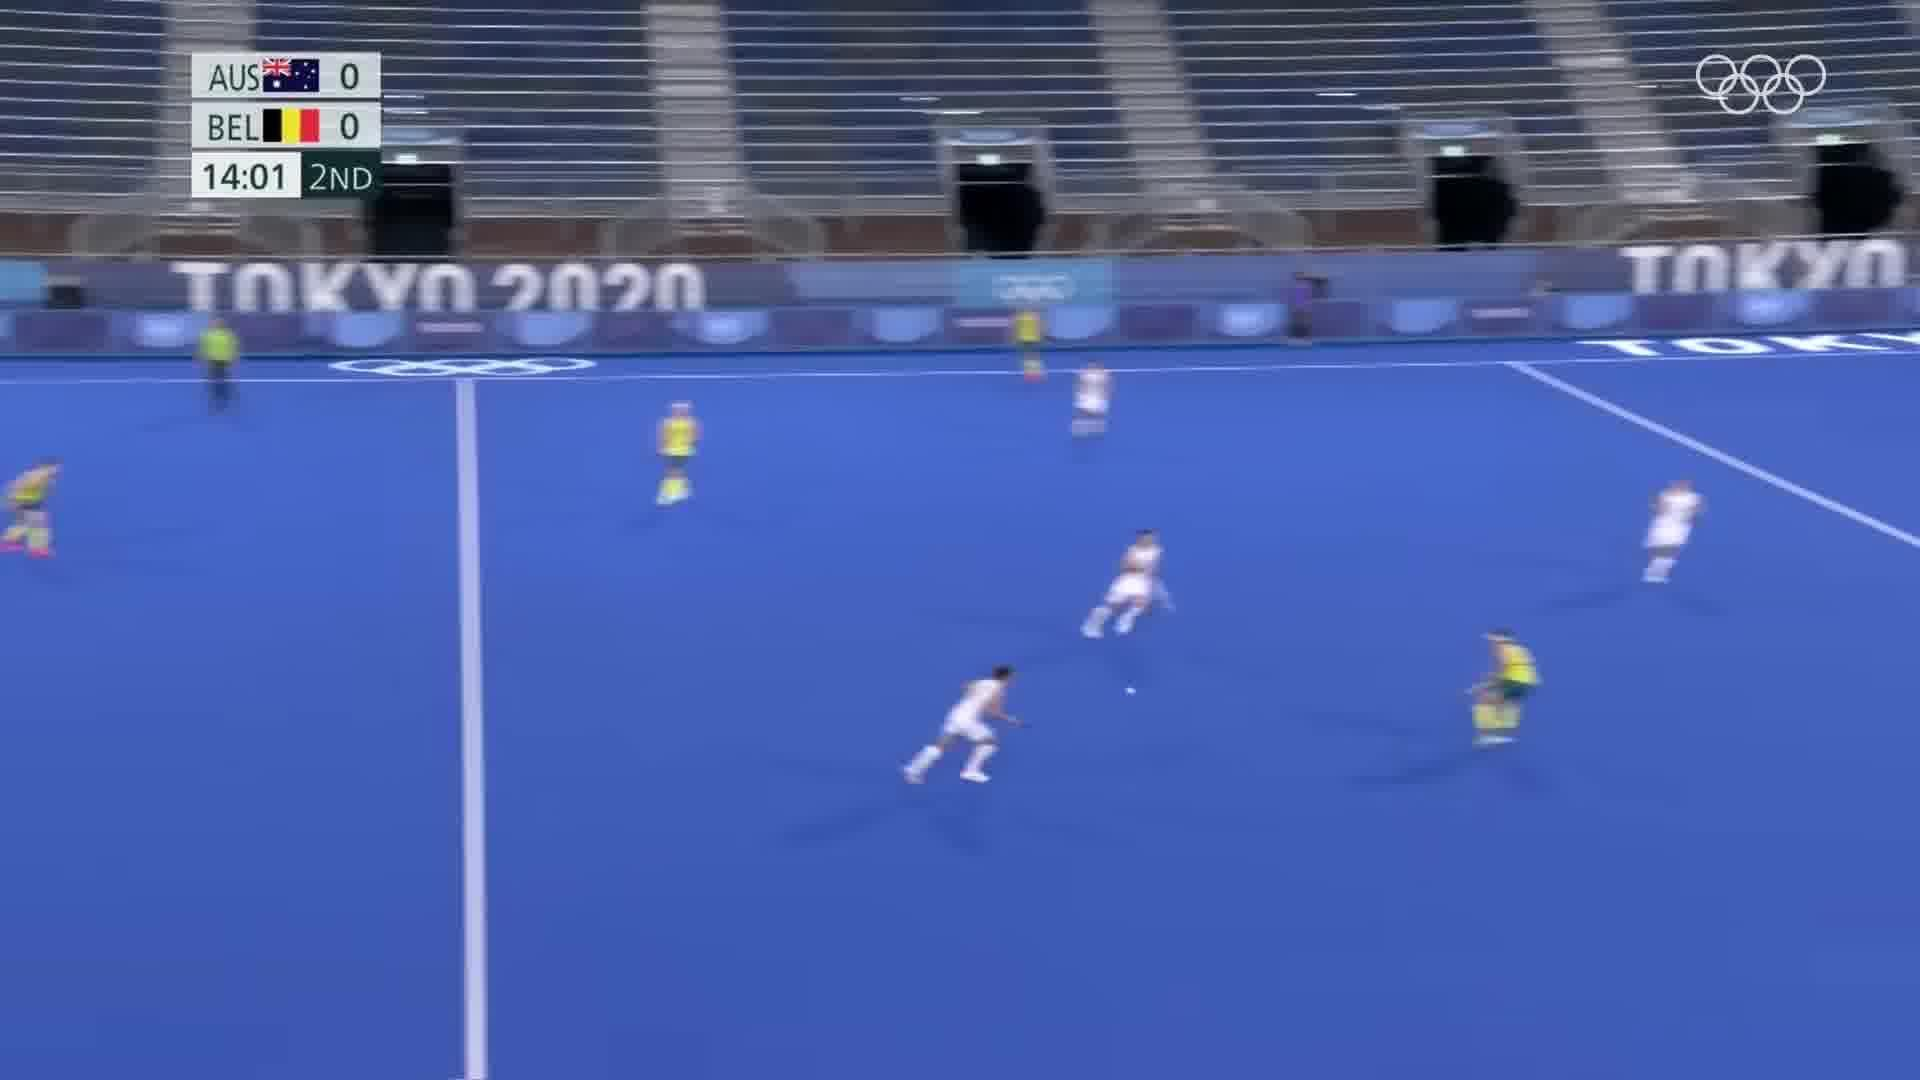ball: (1117, 682, 1142, 698)
